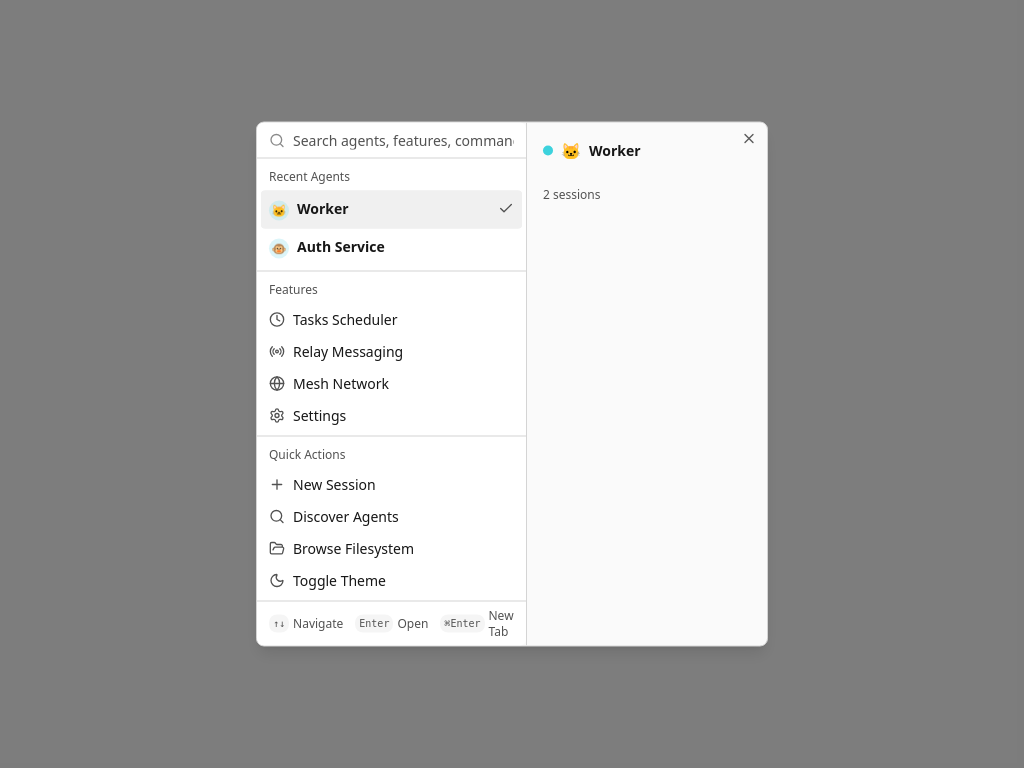
CommandPaletteDialog › shows All Agents group and hides Features/Quick Actions/Recent Agents in @ mode
Step 1. Type "@" into the dropdown with placeholder "Search agents, features, commands..." → (404, 140), box [293, 120, 514, 160]
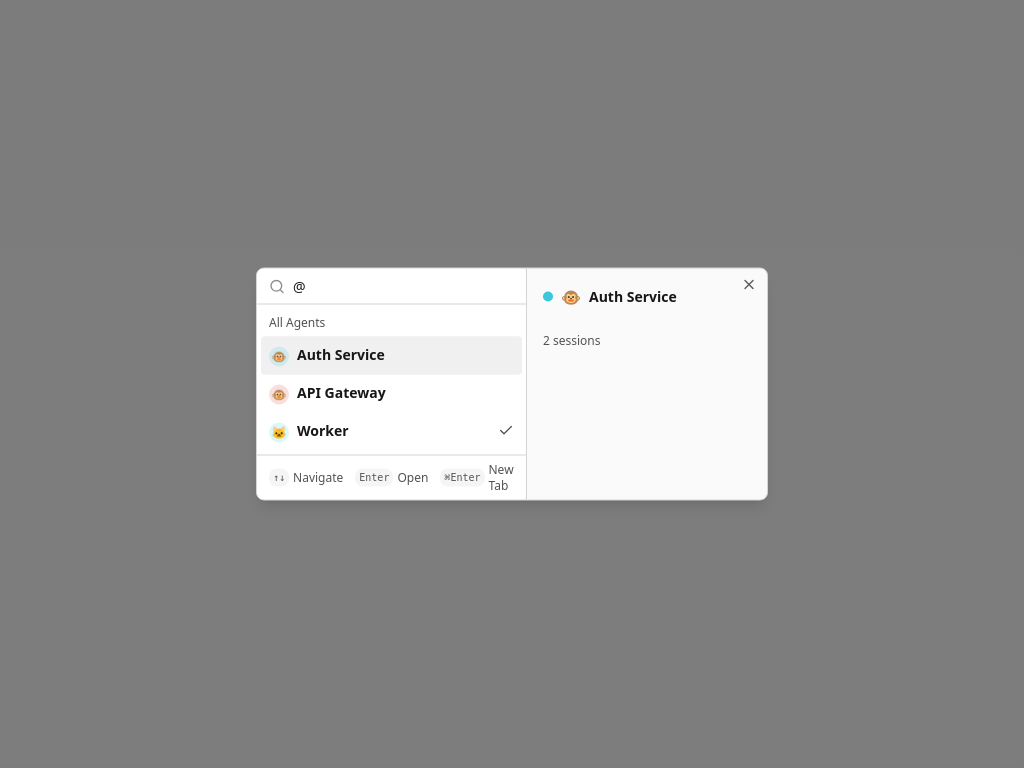
Now the text "All Agents" is shown, box [269, 314, 325, 330]
Now the text "Features" is gone
Now the text "Quick Actions" is gone
